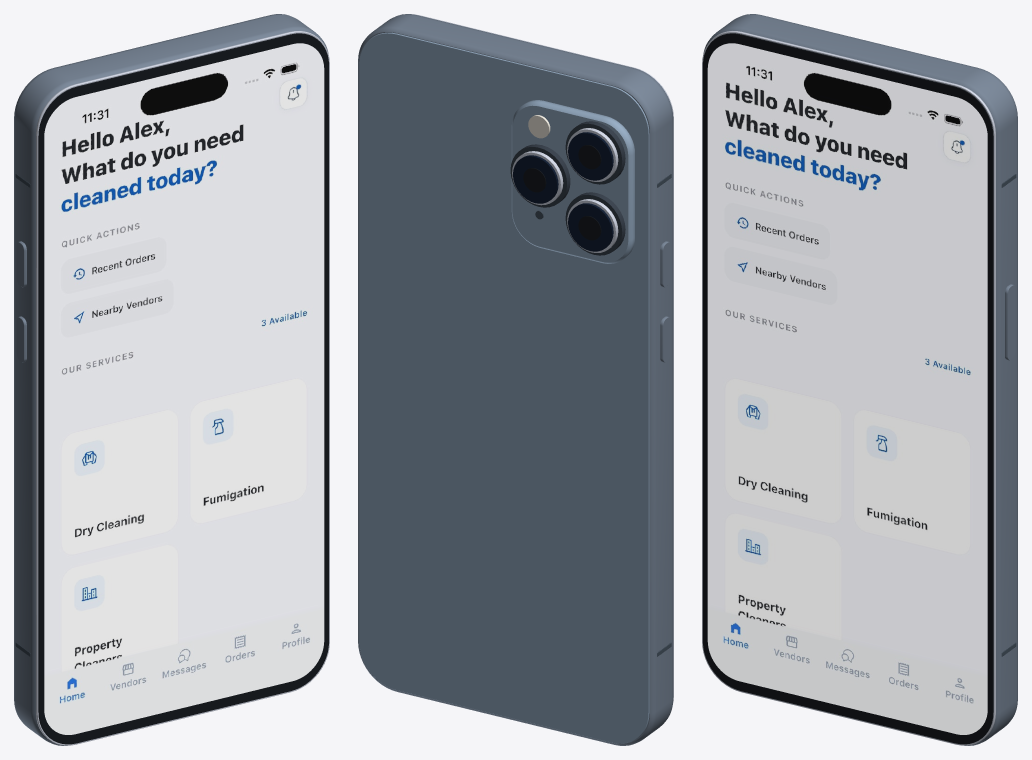
The model's file is customer-phone.glb.
3 renders of one model, left to right at view 1: azimuth 30°, elevation 25°; view 2: azimuth 150°, elevation 25°; view 3: azimuth 330°, elevation 25°, orthographic.
Visible parts, largest first — view 1: App Store screen, Brushed aluminium chassis, Display surround, Front perimeter lip; view 2: Rear camera glass, Brushed aluminium chassis, Rear camera housing, Camera optics.002, Camera optics, Camera optics.001, Front perimeter lip, Camera hob.001, Camera hob, Camera hob.002, Polished lens surround.001; view 3: App Store screen, Brushed aluminium chassis, Display surround, Front perimeter lip, Side switch.002.
Part boxes in pixels (box(x1,y1,x2,y2)): App Store screen: box(44, 43, 324, 734); Brushed aluminium chassis: box(14, 14, 328, 745); Display surround: box(38, 33, 328, 744); Front perimeter lip: box(36, 31, 329, 745); Rear camera glass: box(359, 32, 649, 743); Brushed aluminium chassis: box(358, 14, 673, 745); Rear camera housing: box(511, 100, 634, 263); Camera optics.002: box(568, 203, 613, 251); Camera optics: box(568, 132, 613, 180); Camera optics.001: box(513, 155, 558, 203); Front perimeter lip: box(414, 14, 673, 702); Camera hob.001: box(510, 144, 570, 207); Camera hob: box(565, 121, 625, 184); Camera hob.002: box(565, 192, 625, 255); Polished lens surround.001: box(512, 151, 563, 205); App Store screen: box(707, 43, 987, 734); Brushed aluminium chassis: box(703, 14, 1017, 745); Display surround: box(703, 33, 993, 744); Front perimeter lip: box(702, 31, 995, 745); Side switch.002: box(1005, 284, 1015, 360).
Bounding box in the file's own units: 0.78 × 1.64 × 0.169.
Materials: 9 (1 with a texture image).
